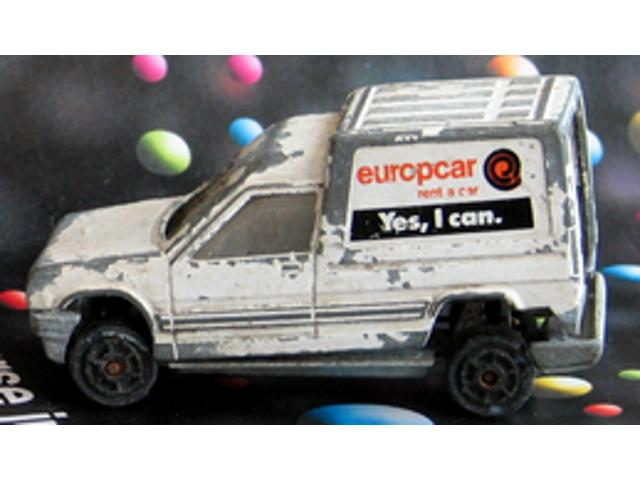toy-car: (24, 72, 608, 420)
